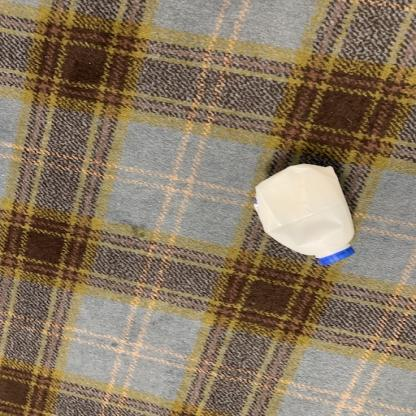trash: (252, 159, 362, 268)
